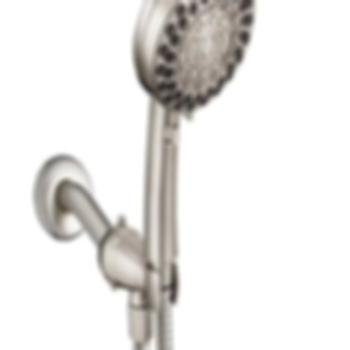Ducha: (21, 0, 275, 349)
